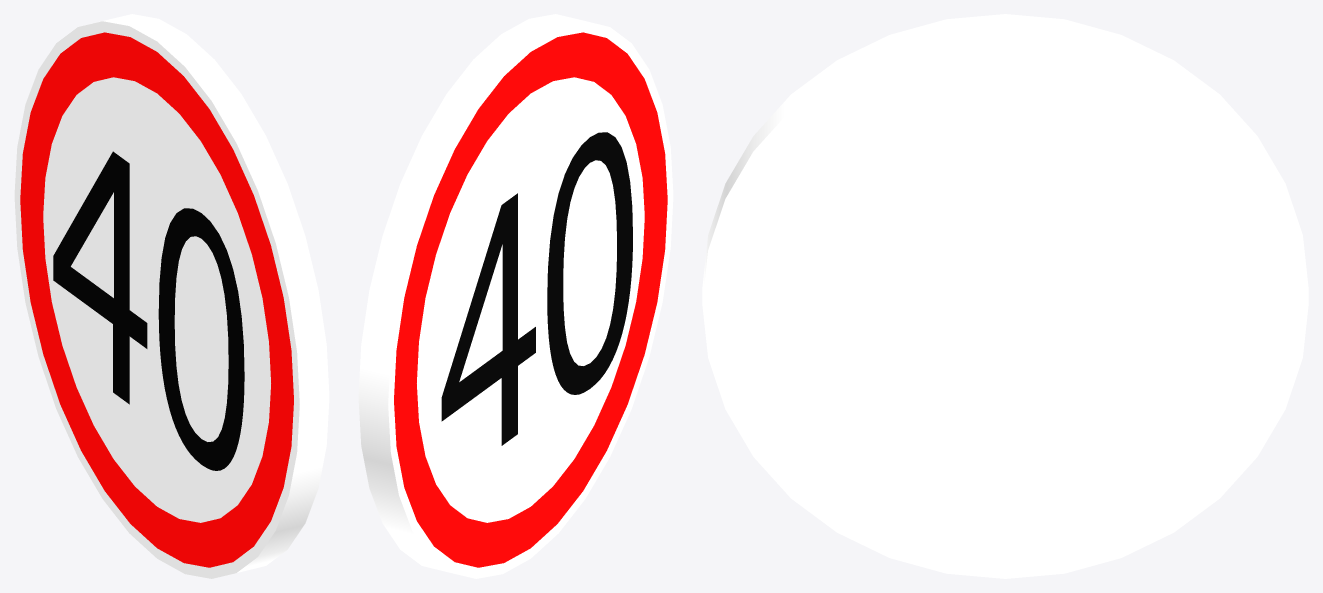
Rendered from Speed_Limit_40.glb.
3 views of the same model, side by side, from view 1: azimuth 30°, elevation 25°; view 2: azimuth 150°, elevation 25°; view 3: azimuth 270°, elevation 25° (orthographic). The views are drawn at different scales.
Parts seen in each view (by area): view 1: Speed_Limit_40; view 2: Speed_Limit_40; view 3: Speed_Limit_40.
Part boxes in pixels (<box>): Speed_Limit_40: <box>14,14,329,578</box>; Speed_Limit_40: <box>358,14,673,578</box>; Speed_Limit_40: <box>702,14,1308,578</box>.
Size of the model in its own units: 0.075 by 1 by 1.
